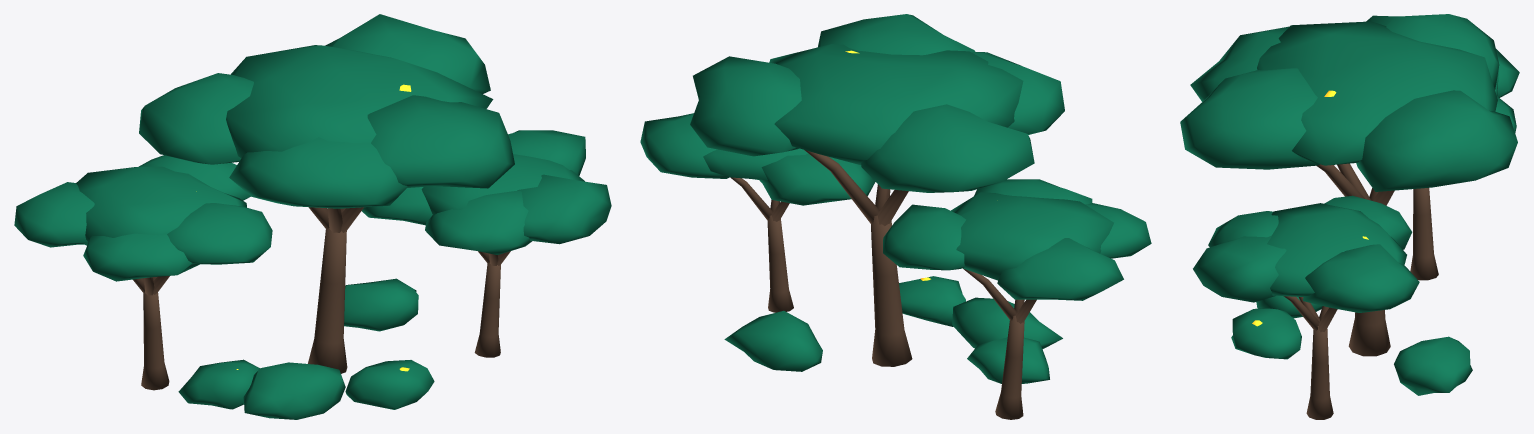
File: tropical_tree_cluster.glb
3 renders of one model, left to right at view 1: azimuth 30°, elevation 25°; view 2: azimuth 150°, elevation 25°; view 3: azimuth 270°, elevation 25°, orthographic.
Visible parts, largest first — view 1: TreeCluster_Main_CrownMain, TreeCluster_Main_CanopyLobe_2, TreeCluster_Main_CanopyLobe_3, TreeCluster_West_CrownMain, TreeCluster_Main_CanopyLobe_1, TreeCluster_Main_CanopyLobe_0, TreeCluster_West_CanopyLobe_2, TreeCluster_East_CanopyLobe_2, TreeCluster_East_CanopyLobe_3, TreeCluster_Shrub_0, TreeCluster_West_CanopyLobe_3, TreeCluster_Main_Trunk (+10 smaller); view 2: TreeCluster_Main_CrownMain, TreeCluster_Main_CanopyLobe_1, TreeCluster_West_CrownMain, TreeCluster_Main_CanopyLobe_0, TreeCluster_West_CanopyLobe_1, TreeCluster_West_CanopyLobe_0, TreeCluster_Main_CanopyLobe_2, TreeCluster_Shrub_1, TreeCluster_East_CanopyLobe_1, TreeCluster_Main_Trunk, TreeCluster_East_CanopyLobe_0, TreeCluster_Main_CanopyLobe_3 (+12 smaller); view 3: TreeCluster_Main_CrownMain, TreeCluster_Main_CanopyLobe_0, TreeCluster_Main_CanopyLobe_2, TreeCluster_East_CrownMain, TreeCluster_East_CanopyLobe_0, TreeCluster_East_CanopyLobe_2, TreeCluster_Shrub_1, TreeCluster_Main_CanopyLobe_1, TreeCluster_Shrub_2, TreeCluster_Main_CanopyLobe_3, TreeCluster_West_Trunk, TreeCluster_East_Trunk (+8 smaller).
Boxes of the visible parts, left/top/right/bottom form: TreeCluster_Main_CrownMain: left=226, top=45, right=493, bottom=158; TreeCluster_Main_CanopyLobe_2: left=367, top=95, right=514, bottom=188; TreeCluster_Main_CanopyLobe_3: left=229, top=137, right=407, bottom=208; TreeCluster_West_CrownMain: left=76, top=166, right=246, bottom=245; TreeCluster_Main_CanopyLobe_1: left=139, top=73, right=253, bottom=164; TreeCluster_Main_CanopyLobe_0: left=325, top=14, right=490, bottom=93; TreeCluster_West_CanopyLobe_2: left=167, top=203, right=272, bottom=264; TreeCluster_East_CanopyLobe_2: left=517, top=174, right=611, bottom=244; TreeCluster_East_CanopyLobe_3: left=425, top=191, right=532, bottom=254; TreeCluster_Shrub_0: left=243, top=362, right=345, bottom=419; TreeCluster_West_CanopyLobe_3: left=83, top=233, right=199, bottom=281; TreeCluster_Main_Trunk: left=308, top=228, right=347, bottom=373; TreeCluster_Main_CrownMain: left=769, top=44, right=1023, bottom=164; TreeCluster_Main_CanopyLobe_1: left=861, top=104, right=1034, bottom=192; TreeCluster_West_CrownMain: left=951, top=192, right=1113, bottom=280; TreeCluster_Main_CanopyLobe_0: left=690, top=56, right=801, bottom=156; TreeCluster_West_CanopyLobe_1: left=997, top=238, right=1123, bottom=300; TreeCluster_West_CanopyLobe_0: left=883, top=204, right=965, bottom=270; TreeCluster_Main_CanopyLobe_2: left=818, top=14, right=975, bottom=55; TreeCluster_Shrub_1: left=724, top=310, right=822, bottom=371; TreeCluster_East_CanopyLobe_1: left=759, top=153, right=875, bottom=205; TreeCluster_Main_Trunk: left=871, top=215, right=912, bottom=366; TreeCluster_East_CanopyLobe_0: left=640, top=113, right=729, bottom=178; TreeCluster_Main_CanopyLobe_3: left=971, top=52, right=1064, bottom=134; TreeCluster_Main_CrownMain: left=1257, top=21, right=1497, bottom=165; TreeCluster_Main_CanopyLobe_0: left=1356, top=90, right=1517, bottom=191; TreeCluster_Main_CanopyLobe_2: left=1180, top=68, right=1319, bottom=169; TreeCluster_East_CrownMain: left=1267, top=203, right=1406, bottom=296; TreeCluster_East_CanopyLobe_0: left=1303, top=244, right=1419, bottom=312; TreeCluster_East_CanopyLobe_2: left=1193, top=236, right=1286, bottom=302; TreeCluster_Shrub_1: left=1394, top=336, right=1472, bottom=395; TreeCluster_Main_CanopyLobe_1: left=1366, top=14, right=1499, bottom=89; TreeCluster_Shrub_2: left=1231, top=308, right=1301, bottom=359; TreeCluster_Main_CanopyLobe_3: left=1190, top=26, right=1288, bottom=101; TreeCluster_West_Trunk: left=1410, top=188, right=1438, bottom=280; TreeCluster_East_Trunk: left=1306, top=326, right=1333, bottom=419.
Size of the model in its own units: 12.2 by 6.65 by 6.85.
